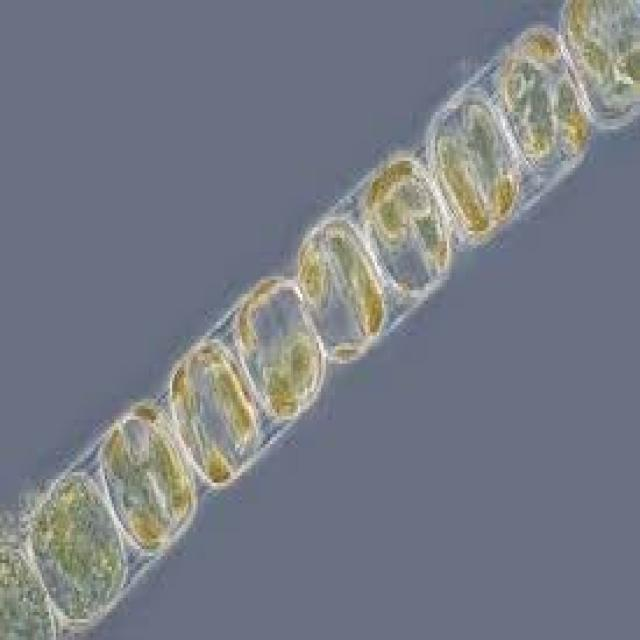Skeletonema: (1, 1, 640, 640)
